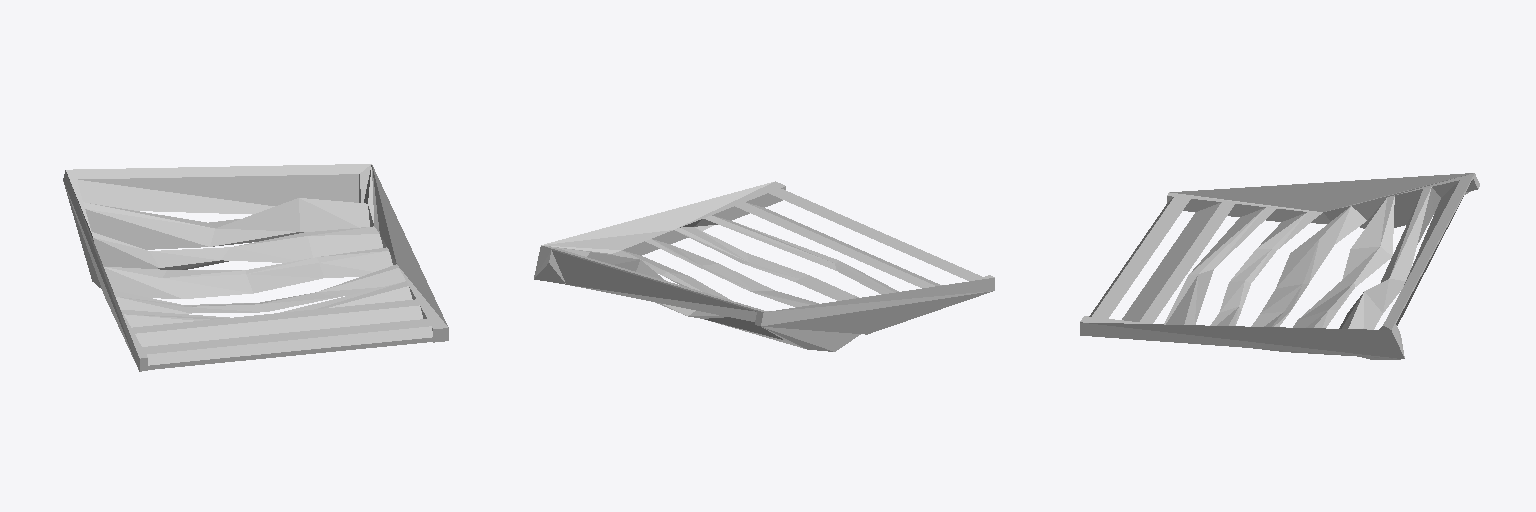
The model's file is Vent_Remove8.obj.
3 renders of one model, left to right at view 1: azimuth 30°, elevation 25°; view 2: azimuth 150°, elevation 25°; view 3: azimuth 270°, elevation 25°, orthographic.
Visible parts, largest first — view 1: Vent_Grate.003; view 2: Vent_Grate.003; view 3: Vent_Grate.003.
Boxes of the visible parts, <box> form: Vent_Grate.003: <box>63,164,448,371</box>; Vent_Grate.003: <box>534,181,994,351</box>; Vent_Grate.003: <box>1080,173,1479,359</box>.
Size of the model in its own units: 0.8059 by 0.1691 by 0.8141.